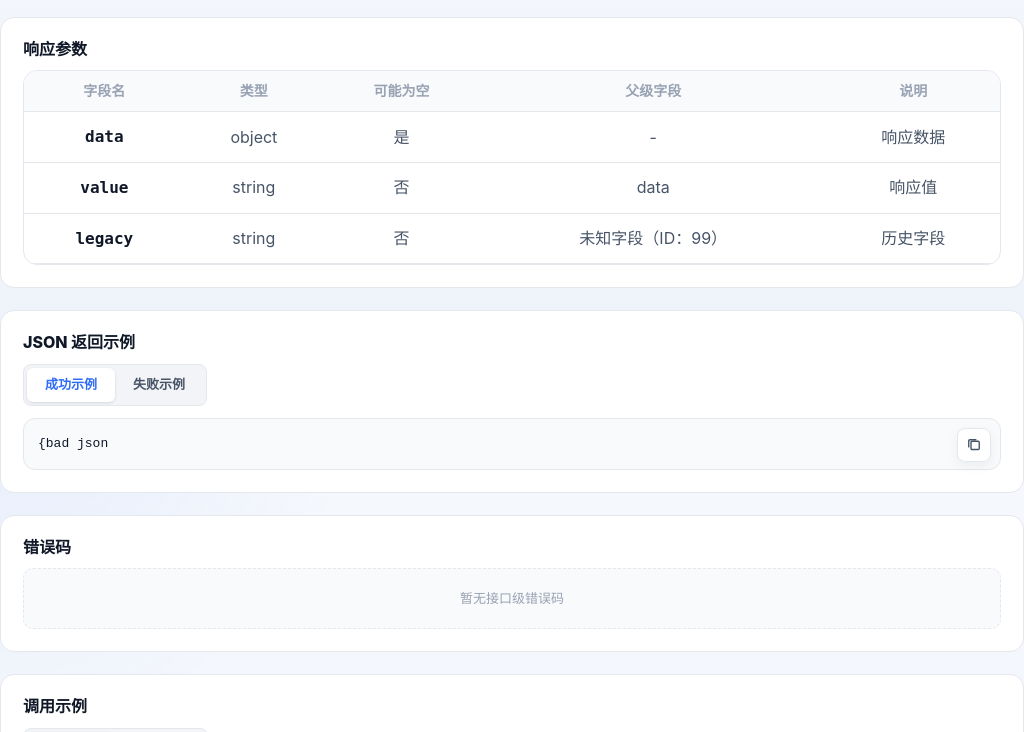
Test: InterfaceDocumentation › 详情模式展示失败示例和错误码空状态
(page scrolled)
Expected: the text with class "fei-code" reads "{bad json", [38,436,108,451]
What coordinates should you click on to do the following:
click the tab with class "fei-example-switch__button" showing "失败示例"
I would click on:
 (159, 385)
Its box is [115,368,203,402].
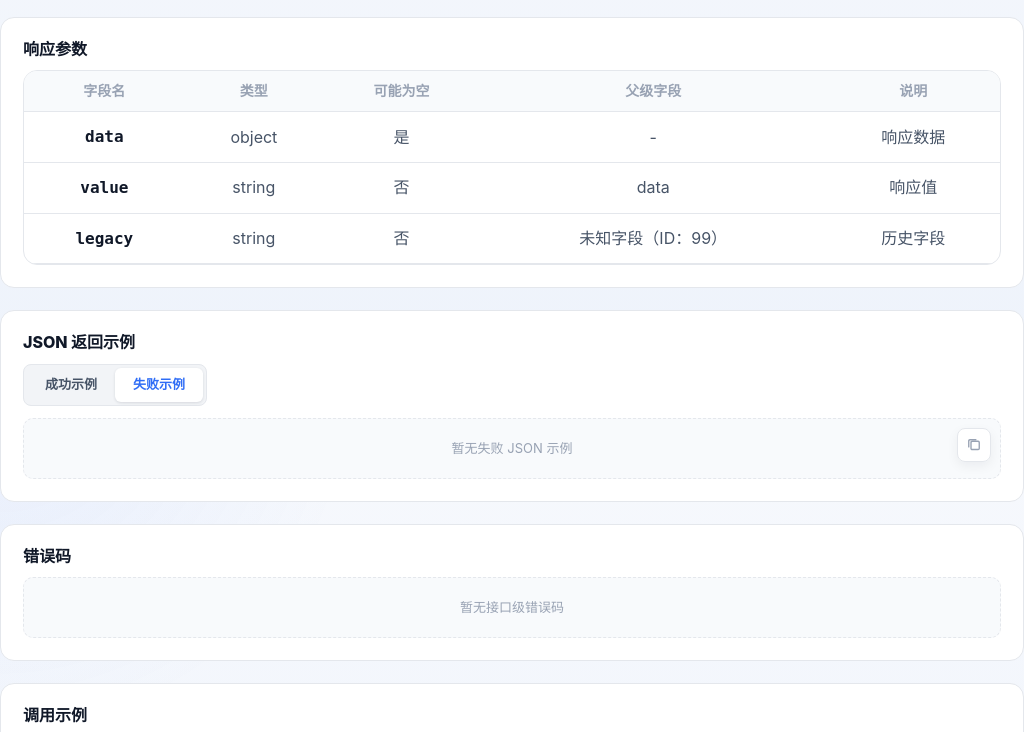
Expected: the text "暂无失败 JSON 示例" is shown, [23,418,1001,479]
